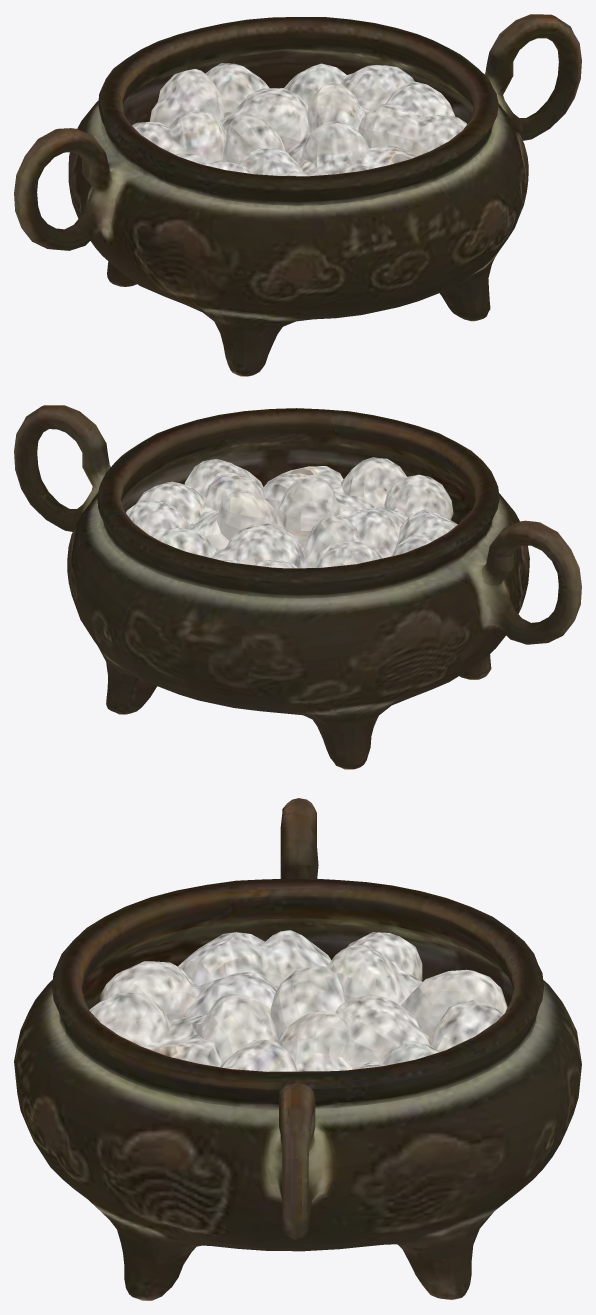
Rendered from prop_incense.glb.
3 views of the same model, one above another, from view 1: azimuth 30°, elevation 25°; view 2: azimuth 150°, elevation 25°; view 3: azimuth 270°, elevation 25° (orthographic). The views are drawn at different scales.
Visible parts, largest first — view 1: mesh_node; view 2: mesh_node; view 3: mesh_node.
Boxes of the visible parts, x1=… form: mesh_node: x1=14, y1=14, x2=581, y2=376; mesh_node: x1=14, y1=405, x2=581, y2=769; mesh_node: x1=14, y1=798, x2=581, y2=1300.
Bounding box in the file's own units: 1.91 × 0.7437 × 1.35.
Materials: 1 (1 with a texture image).
